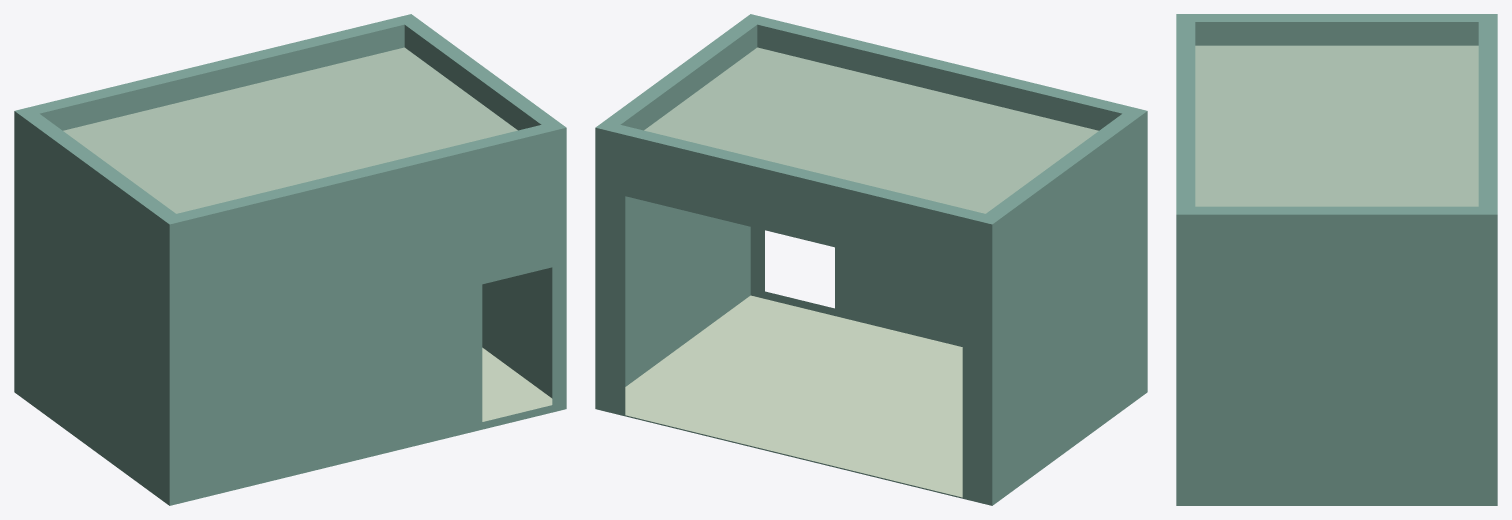
The model's file is garage.glb.
The picture shows the model from 3 angles, left to right: view 1: azimuth 30°, elevation 25°; view 2: azimuth 150°, elevation 25°; view 3: azimuth 270°, elevation 25°; orthographic projection. The views are drawn at different scales.
Parts seen in each view (by area): view 1: garage; view 2: garage; view 3: garage.
Part boxes in pixels (x1,y1,x2,y2): garage: (14, 14, 566, 505); garage: (595, 14, 1147, 505); garage: (1176, 14, 1497, 505).
Size of the model in its own units: 2.95 by 2 by 2.
1 material, 1 textured.
